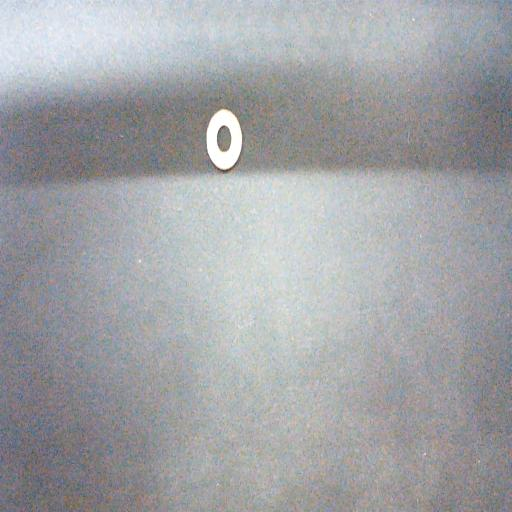washer: (207, 109, 242, 171)
